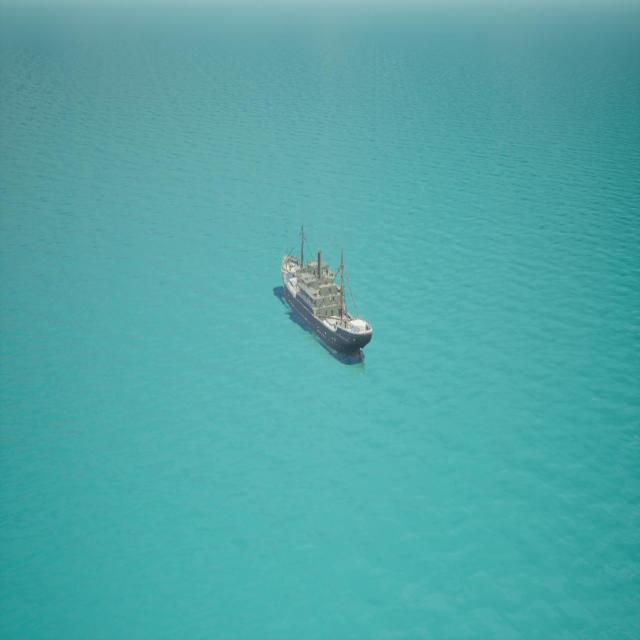fishing ship: (276, 230, 373, 368)
